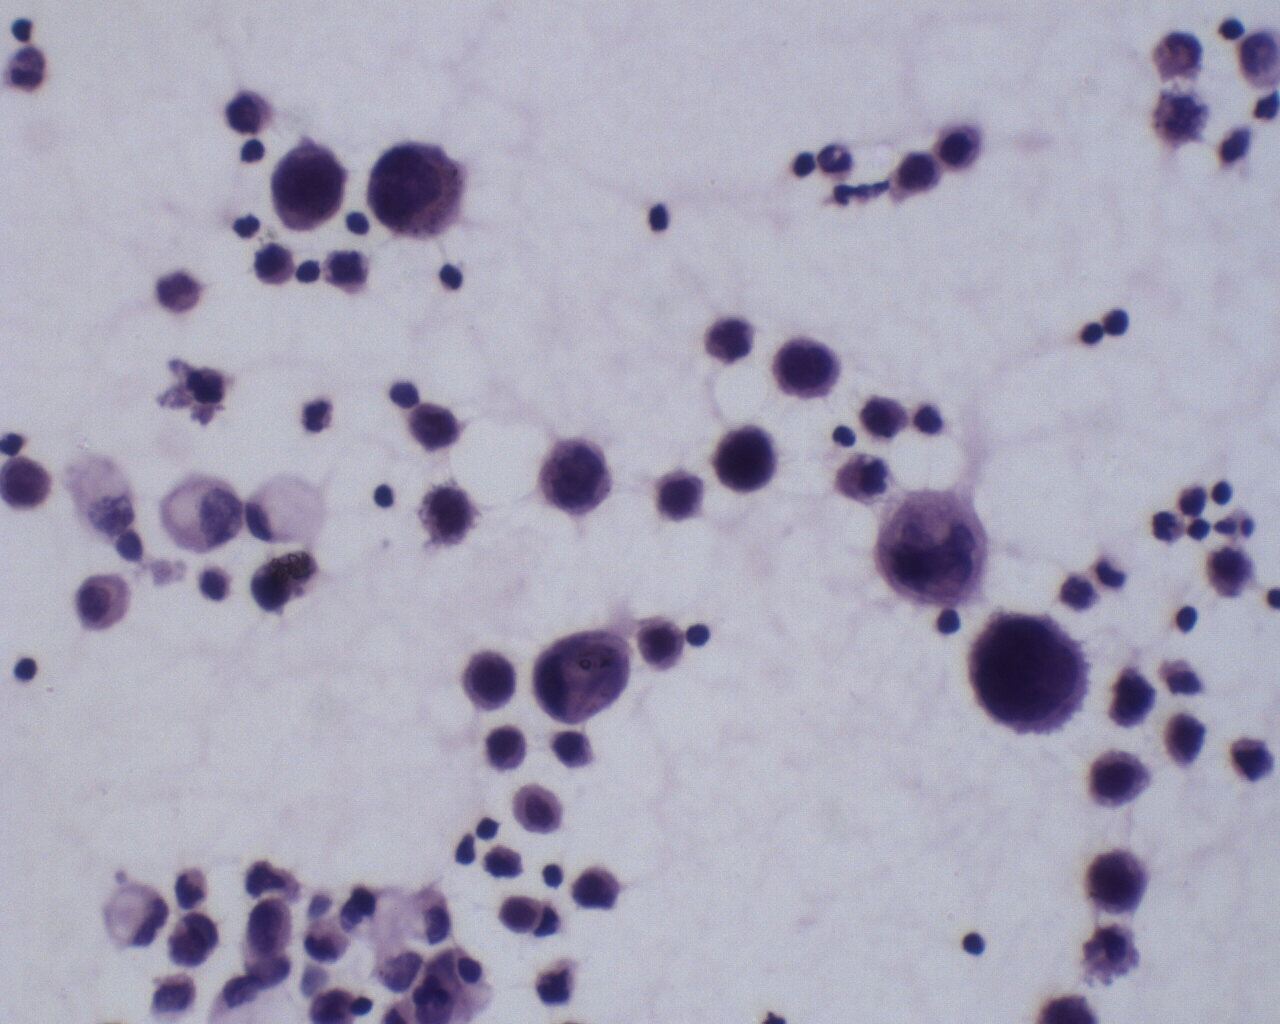ab: (967, 609, 1095, 734), (872, 484, 992, 609), (366, 137, 473, 245), (266, 135, 350, 233), (534, 434, 616, 525), (773, 334, 850, 408), (1083, 843, 1153, 917), (714, 420, 779, 496), (240, 897, 304, 974), (412, 479, 479, 552), (1089, 750, 1156, 814), (1, 453, 56, 520), (457, 651, 517, 708), (654, 467, 709, 530), (704, 309, 759, 371), (166, 912, 219, 973)
histo: (241, 474, 328, 546), (102, 881, 171, 954)
lymph: (1174, 602, 1205, 635), (538, 858, 564, 891)
meso: (70, 565, 135, 639), (509, 777, 566, 836)
neutro: (300, 393, 340, 438), (815, 140, 860, 180)
